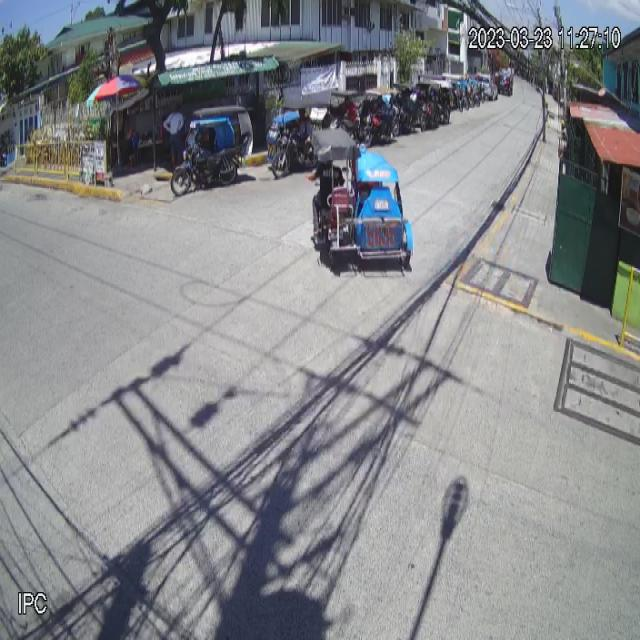Tricycle: (306, 128, 414, 276)
